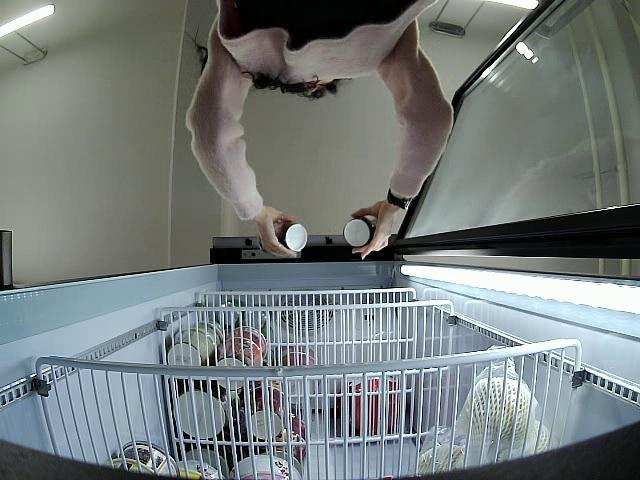00_hand: (349, 201, 401, 259), (259, 203, 300, 261)
08_buldak_S: (259, 218, 309, 253), (343, 215, 378, 247)
